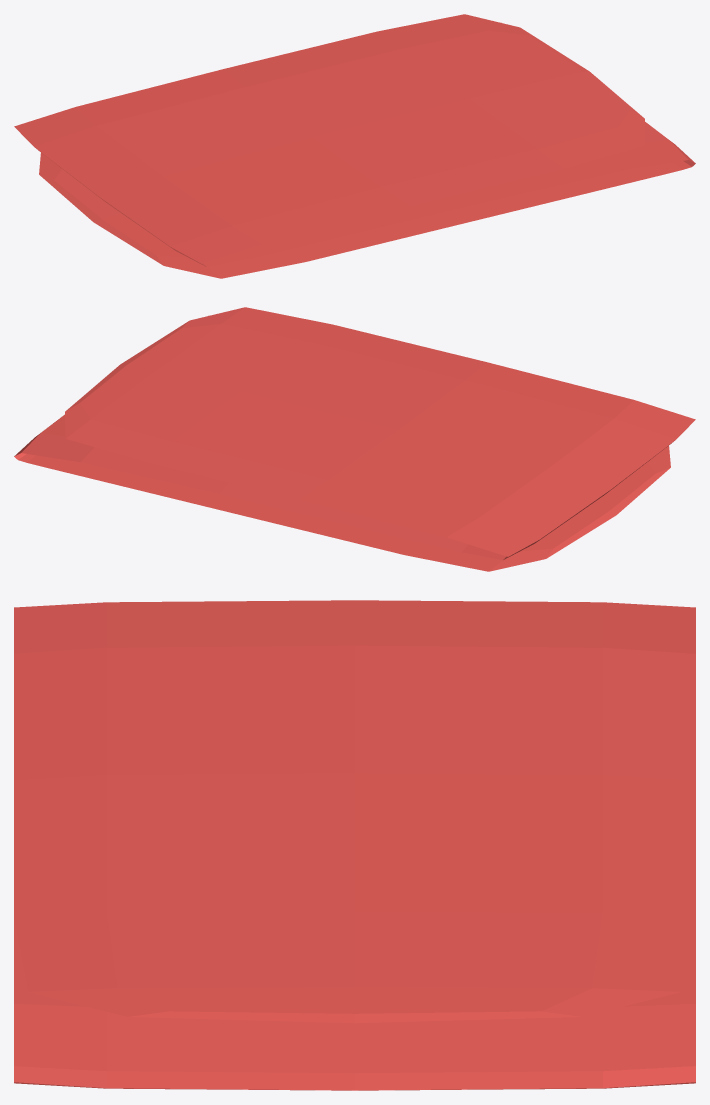
The model's file is Towel_002.fbx.
3 renders of one model, top to bottom at view 1: azimuth 30°, elevation 25°; view 2: azimuth 150°, elevation 25°; view 3: azimuth 270°, elevation 25°, orthographic. The views are drawn at different scales.
Visible parts, largest first — view 1: Towel.002; view 2: Towel.002; view 3: Towel.002.
Part boxes in pixels (<box>): Towel.002: <box>14,14,695,278</box>; Towel.002: <box>14,307,695,571</box>; Towel.002: <box>14,600,695,1090</box>.
Size of the model in its own units: 97.65 by 6.26 by 61.6.
